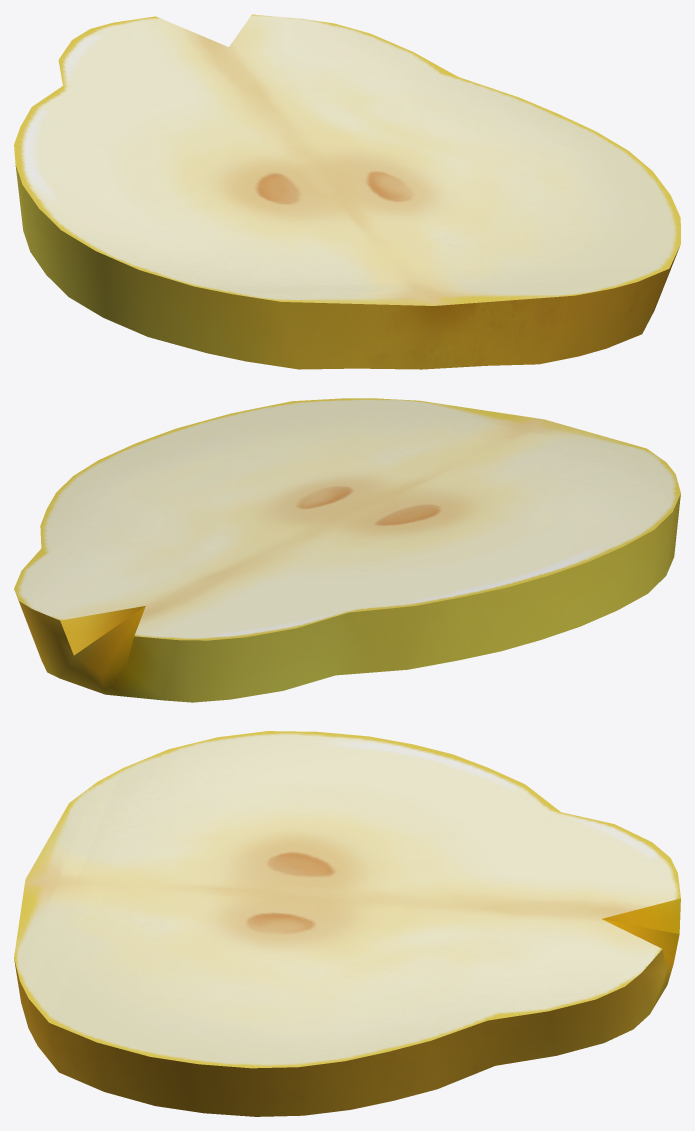
3 renders of one model, top to bottom at view 1: azimuth 30°, elevation 25°; view 2: azimuth 150°, elevation 25°; view 3: azimuth 270°, elevation 25°, orthographic. The views are drawn at different scales.
Visible parts, largest first — view 1: li; view 2: li; view 3: li.
Boxes of the visible parts, x1,y1,x2,y2 form: li: [14, 14, 680, 369]; li: [14, 398, 680, 702]; li: [14, 731, 680, 1116].
Size of the model in its own units: 12.28 by 2.88 by 13.01.
Materials: 1 (1 with a texture image).
